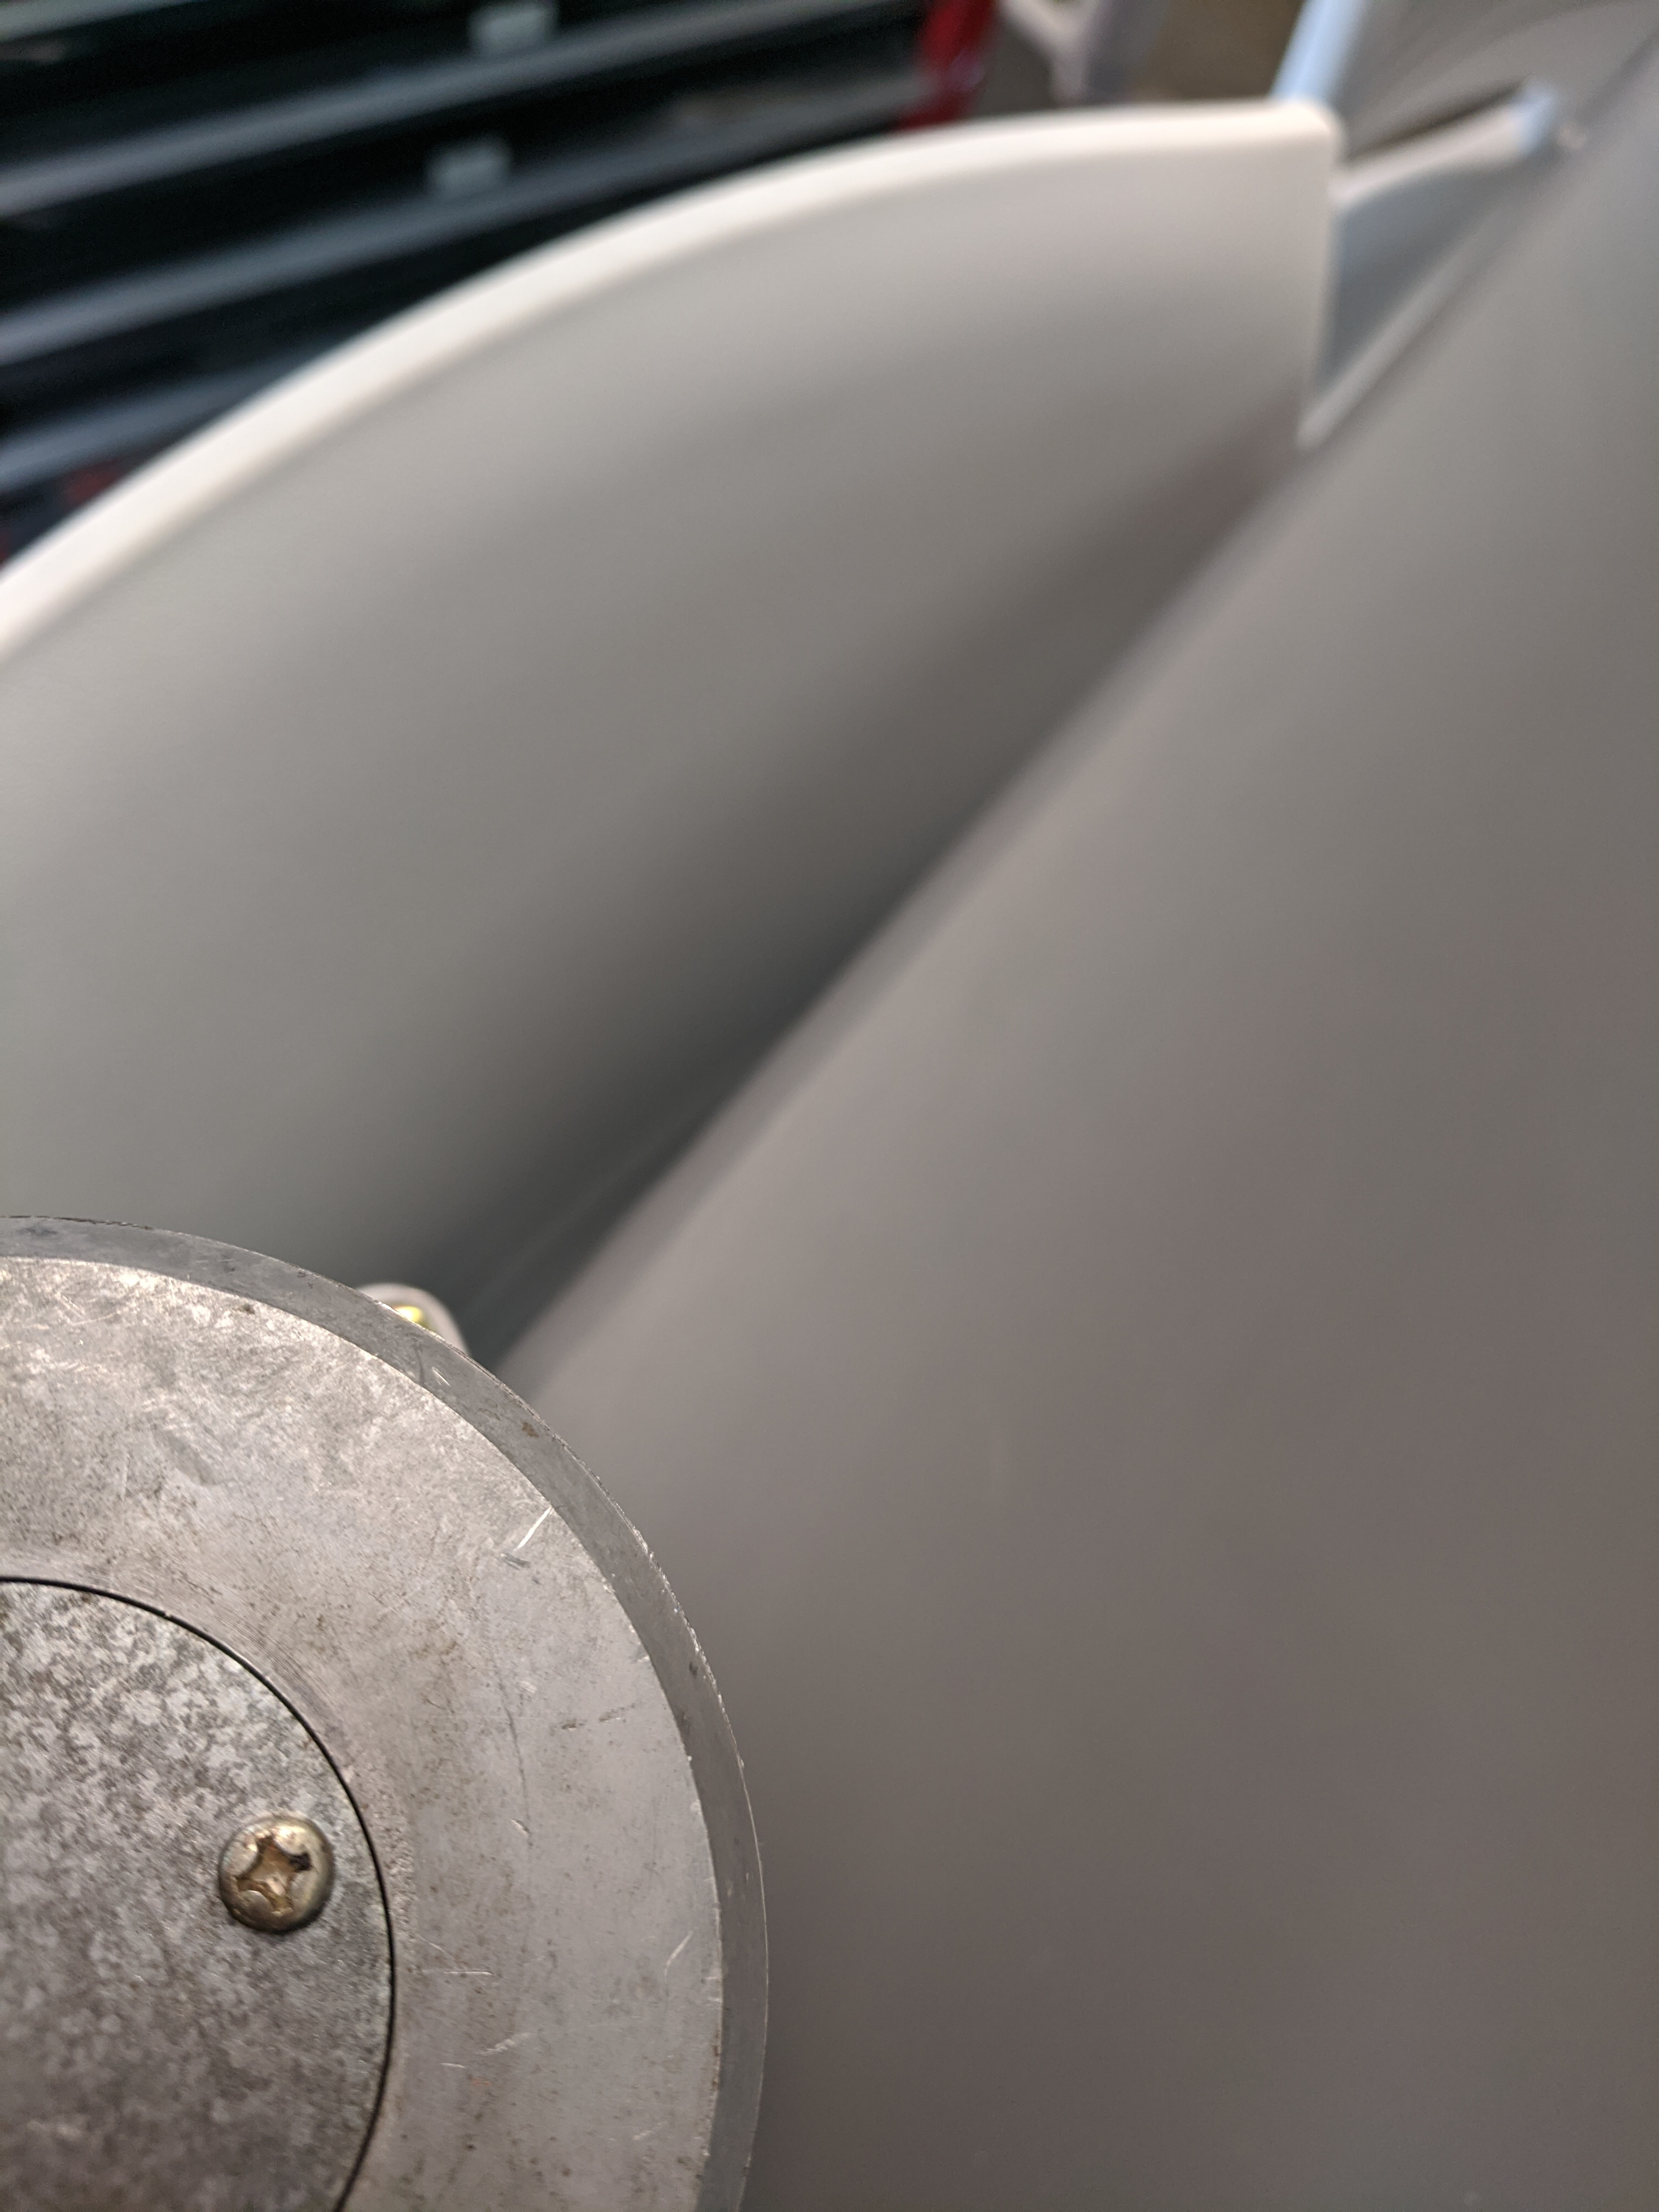cross_recessed_screw: (199, 1797, 345, 1947)
